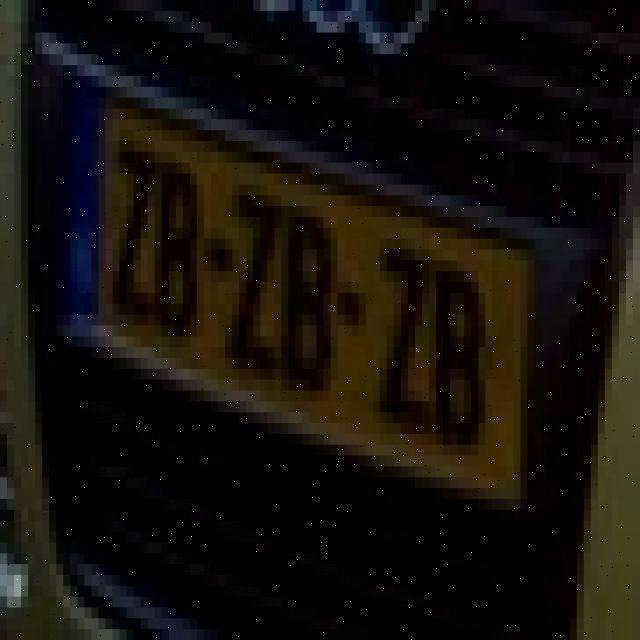LicensePlate: (69, 68, 543, 520)
